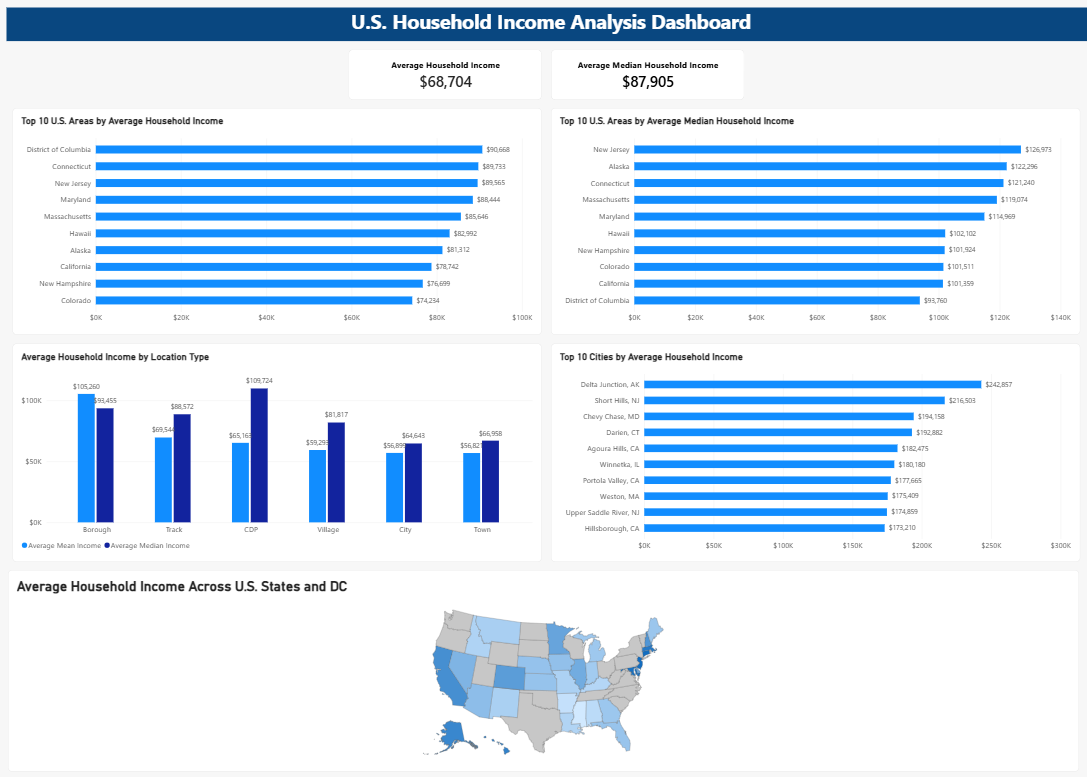

What the dashboard file says about the page in this screenshot:
{"tool":"powerbi","page":{"name":"Page 1","canvas":[2100,1500],"ordinal":0},"visuals":[{"type":"clusteredBarChart","title":"Top 10 U.S. Areas by Average Household Income","fields":{"Category":["US Household Income.State_Name"],"Y":["Avg(US Household Income.Mean)"]},"box":[32,224,1008,432],"z":0},{"type":"clusteredBarChart","title":"Top 10 U.S. Areas by Average Median Household Income","fields":{"Category":["US Household Income.State_Name"],"Y":["Avg(US Household Income.Median)"]},"box":[1056,224,1008,432],"z":1000},{"type":"clusteredColumnChart","title":"Average Household Income by Location Type","fields":{"Category":["US Household Income.Type"],"Y":["Avg(US Household Income.Mean)","Avg(US Household Income.Median)"]},"box":[32,672,1008,416],"z":2000},{"type":"clusteredBarChart","title":"Top 10 Cities by Average Household Income","fields":{"Category":["US Household Income.City_State"],"Y":["Avg(US Household Income.Mean)"]},"box":[1056,672,1008,416],"z":3000},{"type":"shapeMap","title":"Average Household Income Across U.S. States and DC","fields":{"Category":["US Household Income.State_Name"],"Value":["Avg(US Household Income.Mean)"]},"box":[24,1104,2040,384],"z":4000},{"type":"cardVisual","title":"Average Household Income","fields":{"Data":["Avg(US Household Income.Mean)"]},"box":[672,112,368,96],"z":5000},{"type":"cardVisual","title":"Average Median Household Income","fields":{"Data":["Avg(US Household Income.Median)"]},"box":[1056,112,368,96],"z":6000},{"type":"textbox","box":[20,32,2080,64],"z":7000}]}

Visuals, with their boxes in screenshot pixels (x1, y1, x2, y2), scaled from the page's 2100x1500 canvas onto the 1087x777 screenshot:
"Top 10 U.S. Areas by Average Household Income" clusteredBarChart: [17,116,538,340]
"Top 10 U.S. Areas by Average Median Household Income" clusteredBarChart: [547,116,1068,340]
"Average Household Income by Location Type" clusteredColumnChart: [17,348,538,564]
"Top 10 Cities by Average Household Income" clusteredBarChart: [547,348,1068,564]
"Average Household Income Across U.S. States and DC" shapeMap: [12,572,1068,771]
"Average Household Income" cardVisual: [348,58,538,108]
"Average Median Household Income" cardVisual: [547,58,737,108]
textbox: [10,17,1086,50]
